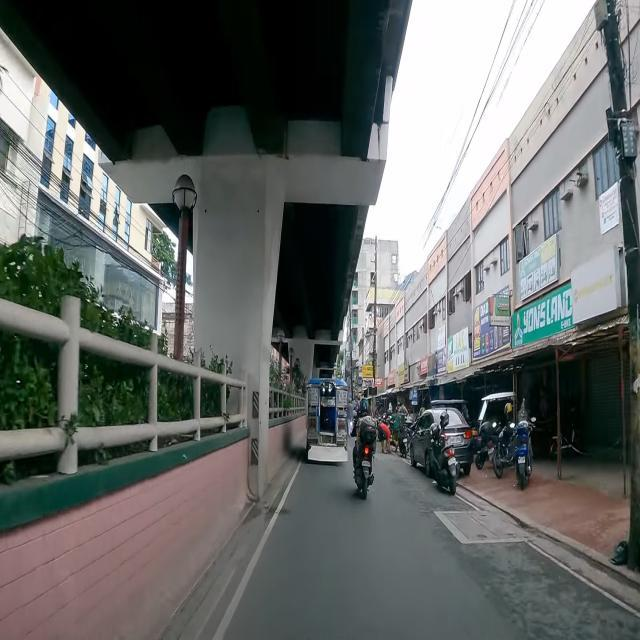car: (410, 406, 474, 479)
jeepney: (306, 378, 348, 466)
motorcycle: (428, 412, 461, 497), (351, 398, 376, 502), (480, 421, 518, 478), (510, 418, 537, 492), (399, 424, 410, 459)
